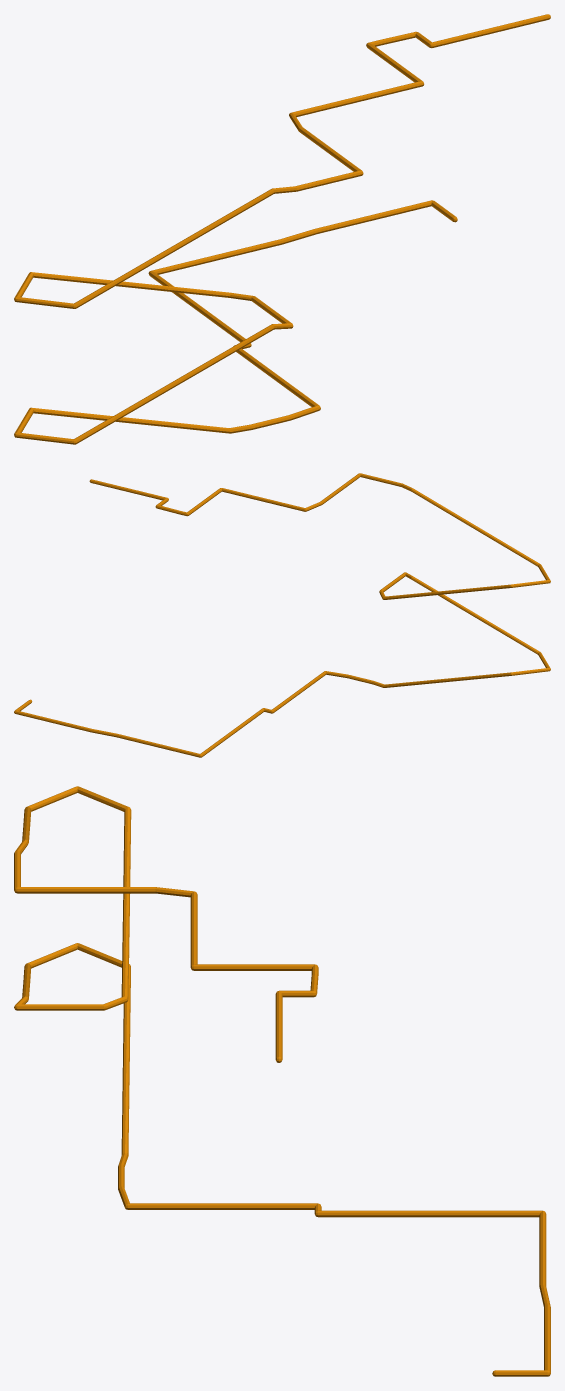
The picture shows the model from 3 angles, top to bottom: view 1: azimuth 30°, elevation 25°; view 2: azimuth 150°, elevation 25°; view 3: azimuth 270°, elevation 25°; orthographic projection. The views are drawn at different scales.
Size of the model in its own units: 2408 by 1020 by 1553.
